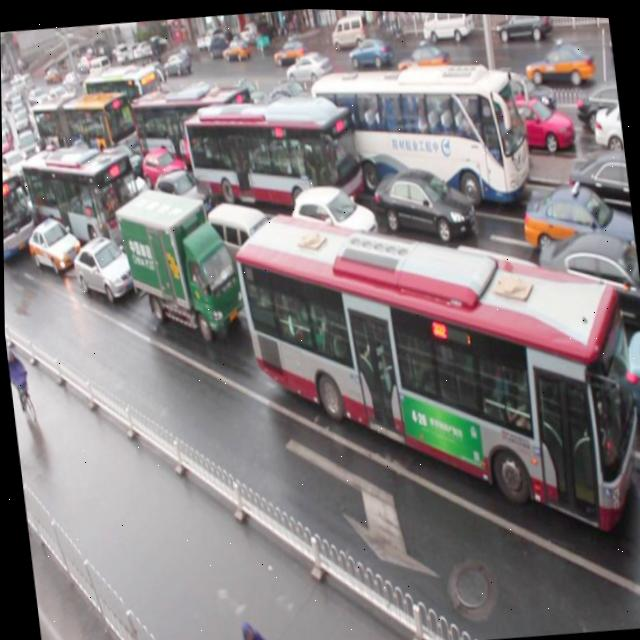bus: (112, 177, 242, 348)
car: (531, 218, 640, 340), (516, 172, 638, 275), (294, 229, 409, 336), (367, 157, 475, 245), (285, 177, 379, 262), (562, 143, 632, 229), (128, 202, 204, 277), (69, 230, 135, 304), (150, 161, 216, 232), (23, 208, 82, 275), (94, 155, 149, 216), (139, 142, 188, 193), (95, 144, 145, 191)
truck: (434, 227, 579, 390), (204, 196, 290, 296)
van: (231, 173, 640, 559), (307, 52, 532, 218), (181, 84, 366, 227), (17, 142, 148, 268), (127, 81, 259, 186), (31, 91, 139, 165), (2, 160, 38, 261)
